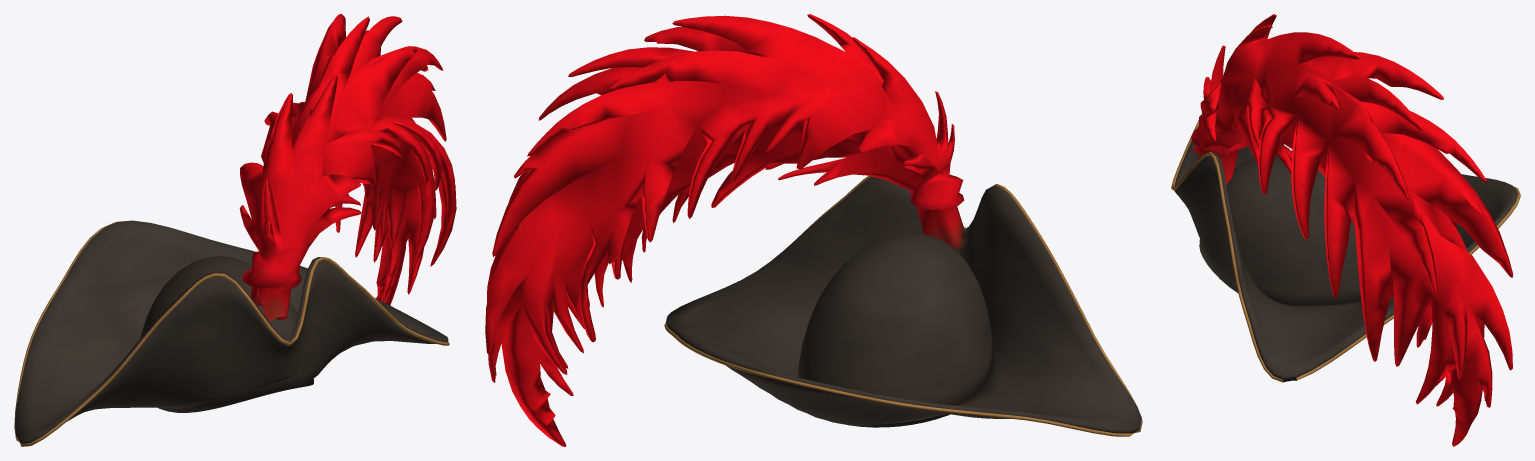
File: hat_with_original_feather.glb
The picture shows the model from 3 angles, left to right: view 1: azimuth 30°, elevation 25°; view 2: azimuth 150°, elevation 25°; view 3: azimuth 270°, elevation 25°; orthographic projection. The views are drawn at different scales.
Parts seen in each view (by area): view 1: TricornHat, OriginalScarletFeather; view 2: OriginalScarletFeather, TricornHat; view 3: OriginalScarletFeather, TricornHat.
Part boxes in pixels (x1,y1,x2,y2): TricornHat: [14, 220, 449, 446]; OriginalScarletFeather: [239, 14, 456, 321]; OriginalScarletFeather: [485, 14, 967, 446]; TricornHat: [664, 176, 1142, 436]; OriginalScarletFeather: [1191, 14, 1513, 446]; TricornHat: [1171, 113, 1520, 382].
Bounding box in the file's own units: 0.7625 × 0.5316 × 0.4589.
Materials: 2 (2 with a texture image).
